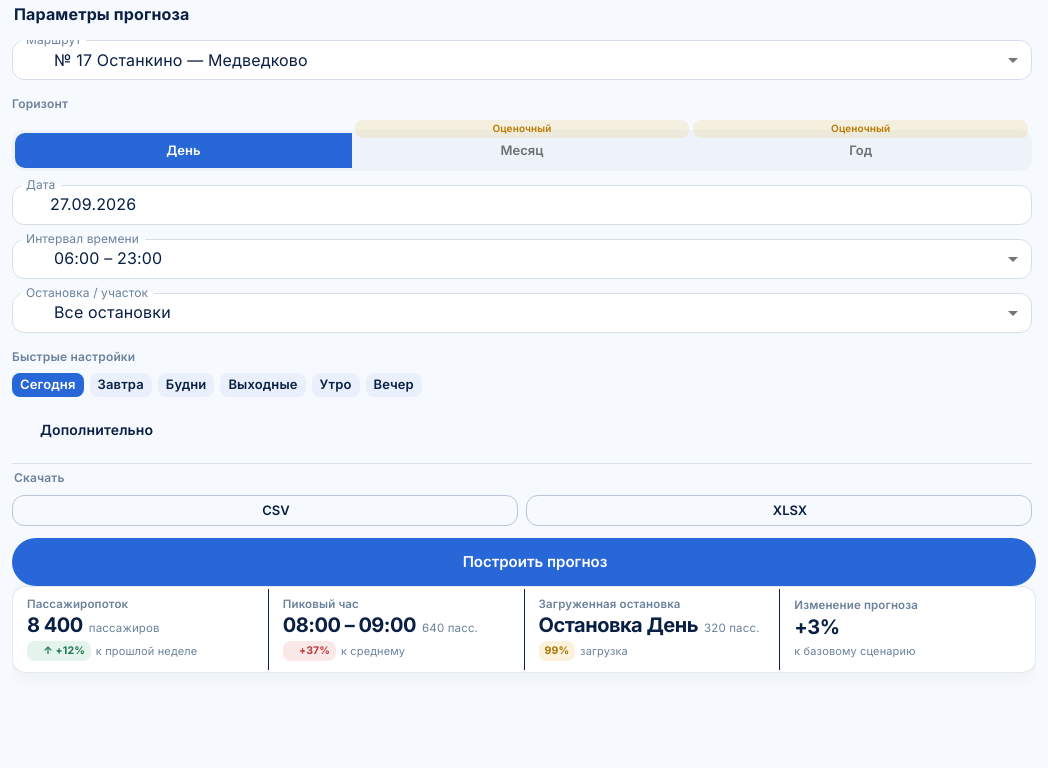
Scenario: Frontend integration (Filters → MSW → KPI) › loads routes from mock API and updates KPI after horizon change
Expected: the dropdown "№ 17 Останкино — Медведково" is shown, [54,50,308,70]
Expected: the text "Остановка День" is shown, [538,614,698,638]
Step 1. Click the button "Месяц" → (522, 150), box [354,133,690,168]
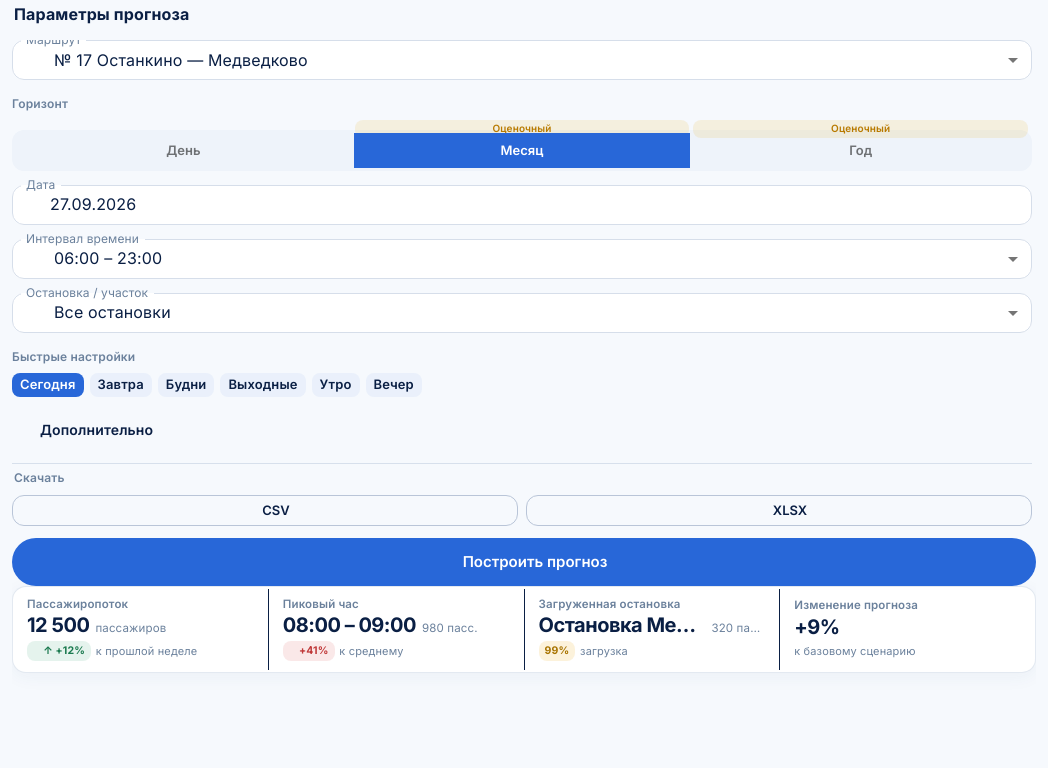
Expected: the text "Остановка Месяц" is shown, [538,614,705,638]
Expected: the text "12 500" is shown, [27,614,89,638]
